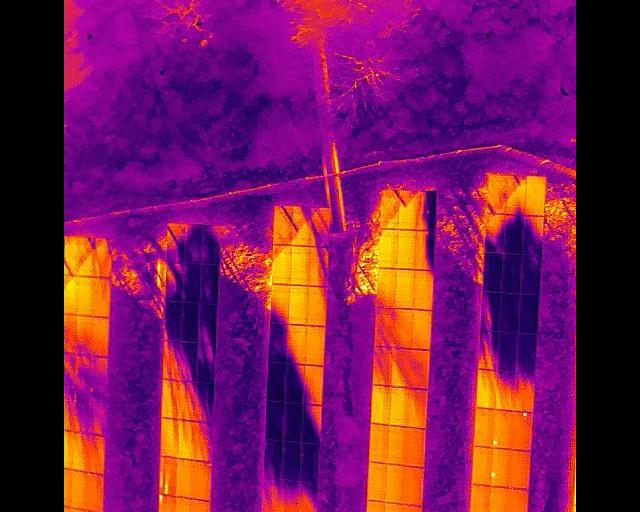Cell: (492, 409, 514, 447), (490, 448, 512, 486), (513, 411, 533, 449), (158, 494, 175, 512)
Cell-Multi: (159, 455, 177, 494)
No-Anomaly: (413, 270, 435, 309), (368, 423, 388, 464), (412, 308, 432, 348), (405, 466, 425, 506), (191, 459, 210, 501), (306, 325, 325, 366), (291, 245, 310, 285), (288, 284, 307, 324), (477, 369, 496, 409), (388, 425, 407, 464), (377, 229, 396, 268), (308, 286, 327, 325), (472, 446, 491, 485), (526, 175, 544, 216), (385, 464, 404, 502), (367, 463, 386, 501), (473, 408, 492, 446), (371, 385, 390, 422), (380, 190, 398, 229), (273, 245, 291, 284), (408, 427, 426, 466), (390, 386, 408, 425), (512, 449, 530, 488), (160, 417, 178, 455), (399, 191, 417, 229), (396, 269, 414, 307), (397, 229, 414, 269), (94, 276, 111, 316), (86, 473, 104, 510), (378, 268, 395, 307), (93, 316, 110, 355), (76, 276, 93, 315), (175, 458, 192, 496), (73, 432, 90, 470), (90, 435, 106, 473), (70, 471, 86, 509), (470, 484, 490, 512), (489, 486, 509, 512), (509, 487, 527, 512), (173, 497, 191, 512), (366, 500, 384, 512), (191, 500, 209, 512), (383, 502, 401, 512)
Shadowing: (309, 207, 331, 246), (486, 174, 507, 214), (521, 253, 541, 294), (201, 224, 222, 263), (407, 388, 428, 427), (391, 308, 412, 347), (416, 190, 436, 230), (414, 230, 434, 270), (391, 347, 411, 387), (496, 371, 517, 409), (287, 324, 307, 363), (285, 364, 305, 403), (181, 263, 201, 302), (410, 348, 429, 389), (518, 331, 537, 372), (311, 247, 330, 287), (201, 263, 220, 303), (195, 382, 214, 422), (179, 342, 198, 382), (504, 213, 523, 253), (502, 253, 521, 293), (498, 332, 517, 372), (375, 307, 394, 346), (373, 345, 392, 384), (304, 366, 323, 405), (302, 404, 321, 443), (273, 206, 292, 245), (269, 324, 288, 363), (520, 293, 539, 332), (501, 293, 520, 332), (283, 403, 302, 441), (281, 441, 300, 479), (486, 214, 505, 252), (271, 283, 289, 323), (199, 303, 217, 343), (183, 223, 201, 263), (181, 302, 199, 342), (524, 215, 542, 255), (508, 175, 526, 215), (485, 252, 503, 292), (291, 207, 309, 246), (267, 401, 285, 440), (93, 237, 111, 276), (517, 372, 535, 411), (482, 292, 500, 331), (76, 315, 93, 356), (301, 442, 319, 480), (198, 343, 216, 381), (193, 422, 211, 460), (166, 223, 183, 263), (160, 379, 177, 419), (177, 420, 194, 459), (162, 340, 179, 379), (76, 236, 93, 275), (268, 362, 285, 400), (177, 381, 194, 419), (165, 263, 182, 301), (481, 331, 498, 369), (298, 480, 318, 512), (266, 440, 282, 480), (92, 356, 108, 396), (165, 301, 181, 340), (90, 396, 106, 435), (76, 356, 92, 395), (75, 395, 90, 432), (281, 480, 298, 512), (265, 479, 281, 512)
